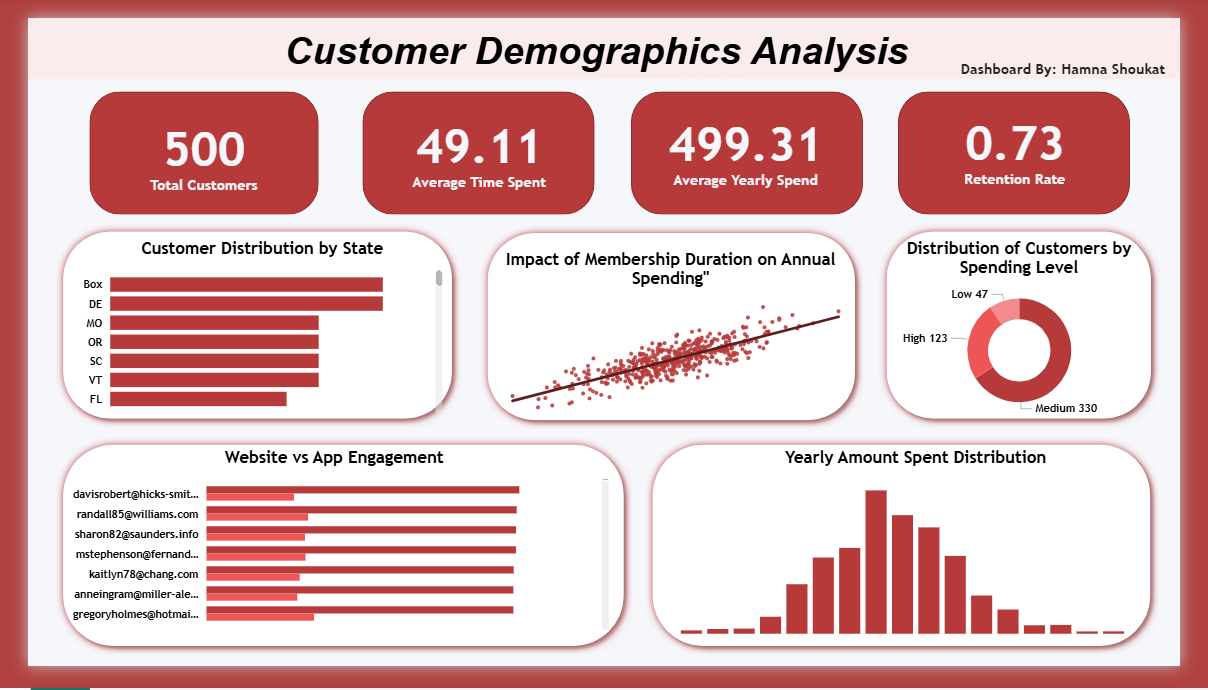

The page's visual inventory and layout, read from the dashboard file:
{"tool":"powerbi","page":{"name":"Page 1","canvas":[1280,720],"ordinal":0},"visuals":[{"type":"shape","box":[0,0,1280.4,68.4],"z":0},{"type":"shape","box":[0,68.4,1280.4,652.2],"z":1000},{"type":"shape","box":[68.4,81.1,254.5,136.8],"z":2000},{"type":"shape","box":[967.1,81.1,257.7,136.8],"z":3000},{"type":"shape","box":[372.2,81.1,257.7,136.8],"z":4000},{"type":"shape","box":[669.6,81.1,257.7,136.8],"z":5000},{"type":"card","fields":{"Values":["E-Commerece Customer.Total Customers"]},"box":[79.5,87.5,230.6,130.4],"z":6000},{"type":"card","fields":{"Values":["E-Commerece Customer.Retention Rate"]},"box":[981.4,89.1,229,112.9],"z":7000},{"type":"card","fields":{"Values":["E-Commerece Customer.Average Yearly Spend"]},"box":[685.6,92.3,224.3,108.2],"z":8000},{"type":"card","fields":{"Values":["E-Commerece Customer.Average Time"]},"box":[383.3,92.3,235.4,112.9],"z":9000},{"type":"shape","box":[30.2,229,450.1,225.9],"z":10000},{"type":"barChart","title":"Customer Distribution by State","fields":{"Category":["E-Commerece Customer.State"],"Y":["E-Commerece Customer.Customer Count"]},"box":[55.7,245,410.4,200.4],"z":11000},{"type":"shape","box":[685.6,464.5,571,241.8],"z":12000},{"type":"shape","box":[30.2,464.5,641,241.8],"z":13000},{"type":"shape","box":[944.8,229,311.8,225.9],"z":14000},{"type":"shape","box":[501,230.6,426.3,225.9],"z":15000},{"type":"clusteredBarChart","title":"Website vs App  Engagement","fields":{"Y":["Sum(E-Commerece Customer.Time on Website)","Sum(E-Commerece Customer.Time on App)"],"Category":["E-Commerece Customer.Email"]},"box":[30.2,477.2,620.3,208.4],"z":16000},{"type":"donutChart","title":"Distribution of Customers by Spending Level","fields":{"Category":["E-Commerece Customer.Spending Category"],"Y":["CountNonNull(E-Commerece Customer.Spending Category)"]},"box":[967.1,245,268.8,205.2],"z":17000},{"type":"scatterChart","title":"Impact of Membership Duration on Annual Spending\"","fields":{"X":["E-Commerece Customer.Length of Membership"],"Y":["E-Commerece Customer.Yearly Amount Spent"]},"box":[518.5,256.1,391.3,194.1],"z":18000},{"type":"clusteredColumnChart","title":"Yearly Amount Spent Distribution","fields":{"Category":["E-Commerece Customer.Yearly Amount Spent (bins)"],"Y":["Sum(E-Commerece Customer.Yearly Amount Spent)"]},"box":[714.2,477.2,542.4,213.1],"z":19000},{"type":"textbox","box":[279.9,6.4,844.6,81.1],"z":20000},{"type":"textbox","box":[1025.9,41.4,254.5,39.8],"z":21000}]}

Visuals, with their boxes in screenshot pixels (x1, y1, x2, y2), scaled from the page's 1280x720 canvas onto the 1208x690 screenshot:
shape: <region>0, 0, 1207, 66</region>
shape: <region>0, 66, 1207, 689</region>
shape: <region>65, 78, 305, 209</region>
shape: <region>913, 78, 1156, 209</region>
shape: <region>351, 78, 594, 209</region>
shape: <region>632, 78, 875, 209</region>
card - E-Commerece Customer.Total Customers: <region>75, 84, 293, 209</region>
card - E-Commerece Customer.Retention Rate: <region>926, 85, 1142, 194</region>
card - E-Commerece Customer.Average Yearly Spend: <region>647, 88, 859, 192</region>
card - E-Commerece Customer.Average Time: <region>362, 88, 584, 197</region>
shape: <region>29, 219, 453, 436</region>
"Customer Distribution by State" barChart: <region>53, 235, 440, 427</region>
shape: <region>647, 445, 1186, 677</region>
shape: <region>29, 445, 633, 677</region>
shape: <region>892, 219, 1186, 436</region>
shape: <region>473, 221, 875, 437</region>
"Website vs App  Engagement" clusteredBarChart: <region>29, 457, 614, 657</region>
"Distribution of Customers by Spending Level" donutChart: <region>913, 235, 1166, 431</region>
"Impact of Membership Duration on Annual Spending"" scatterChart: <region>489, 245, 859, 431</region>
"Yearly Amount Spent Distribution" clusteredColumnChart: <region>674, 457, 1186, 662</region>
textbox: <region>264, 6, 1061, 84</region>
textbox: <region>968, 40, 1207, 78</region>
